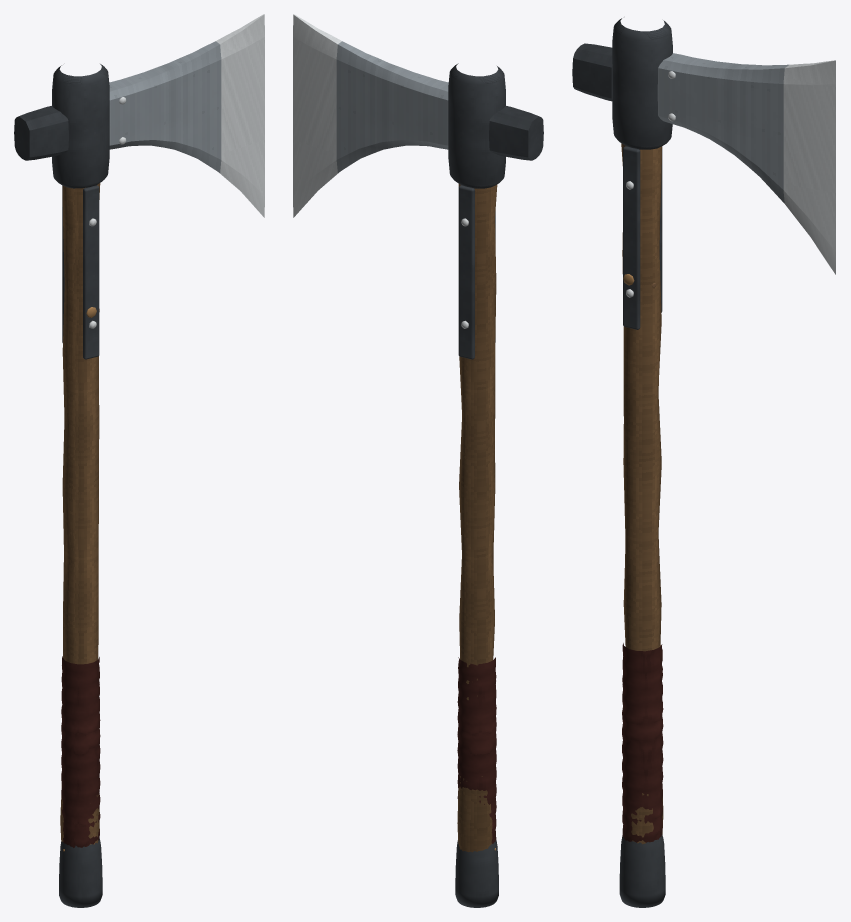
Rendered from war-axe.lod1.glb.
3 views of the same model, side by side, from view 1: azimuth 30°, elevation 25°; view 2: azimuth 150°, elevation 25°; view 3: azimuth 330°, elevation 25° (orthographic). The views are drawn at different scales.
Visible parts, largest first — view 1: wood / oiled hardwood, darksteel / oil-blackened fittings, steel / forged blade steel, edge / honed bright bevel, leather / oiled leather wrap; view 2: wood / oiled hardwood, darksteel / oil-blackened fittings, steel / forged blade steel, edge / honed bright bevel, leather / oiled leather wrap; view 3: wood / oiled hardwood, darksteel / oil-blackened fittings, steel / forged blade steel, edge / honed bright bevel, leather / oiled leather wrap.
Part boxes in pixels (box(x1,y1,x2,y2)): wood / oiled hardwood: box(60, 183, 100, 844); darksteel / oil-blackened fittings: box(14, 64, 109, 907); steel / forged blade steel: box(109, 41, 221, 172); edge / honed bright bevel: box(89, 14, 264, 328); leather / oiled leather wrap: box(61, 656, 100, 847); wood / oiled hardwood: box(457, 184, 497, 852); darksteel / oil-blackened fittings: box(448, 63, 543, 907); steel / forged blade steel: box(336, 41, 448, 172); edge / honed bright bevel: box(293, 14, 468, 328); leather / oiled leather wrap: box(457, 657, 496, 843); wood / oiled hardwood: box(621, 143, 663, 844); darksteel / oil-blackened fittings: box(572, 18, 672, 907); steel / forged blade steel: box(657, 53, 788, 203); edge / honed bright bevel: box(626, 60, 835, 297); leather / oiled leather wrap: box(622, 643, 663, 842).
Size of the model in its own units: 0.2529 by 0.838 by 0.048.
7 materials, 5 textured.
